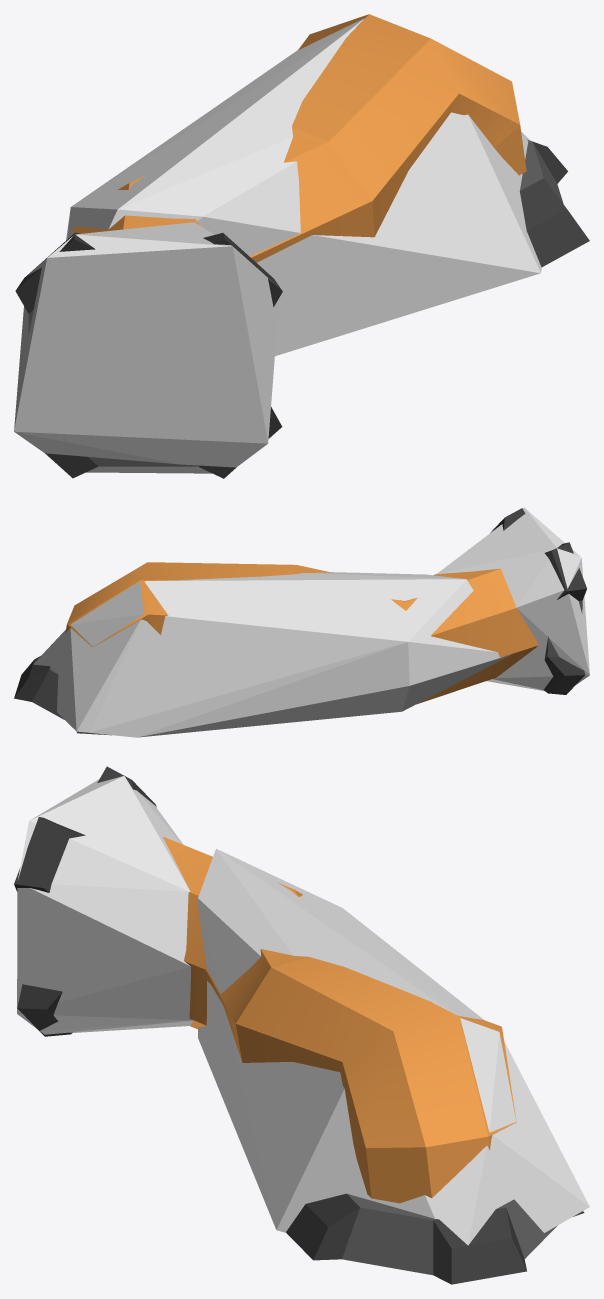
The model's file is SM_Prop_Hose_03.fbx.
3 views of the same model, one above another, from view 1: azimuth 30°, elevation 25°; view 2: azimuth 150°, elevation 25°; view 3: azimuth 270°, elevation 25° (orthographic). The views are drawn at different scales.
Visible parts, largest first — view 1: SM_Prop_Hose_03_ConvexHulls, SM_Prop_Hose_03_LOD0; view 2: SM_Prop_Hose_03_ConvexHulls, SM_Prop_Hose_03_LOD0; view 3: SM_Prop_Hose_03_ConvexHulls, SM_Prop_Hose_03_LOD0.
Boxes of the visible parts, bbox=[...] form: SM_Prop_Hose_03_ConvexHulls: bbox=[14, 18, 541, 473]; SM_Prop_Hose_03_LOD0: bbox=[15, 14, 589, 478]; SM_Prop_Hose_03_ConvexHulls: bbox=[33, 507, 589, 737]; SM_Prop_Hose_03_LOD0: bbox=[14, 508, 586, 735]; SM_Prop_Hose_03_ConvexHulls: bbox=[17, 776, 589, 1245]; SM_Prop_Hose_03_LOD0: bbox=[14, 766, 584, 1284].
Bounding box in the file's own units: 67.9 × 89.95 × 28.54.
Materials: 1 (1 with a texture image).
